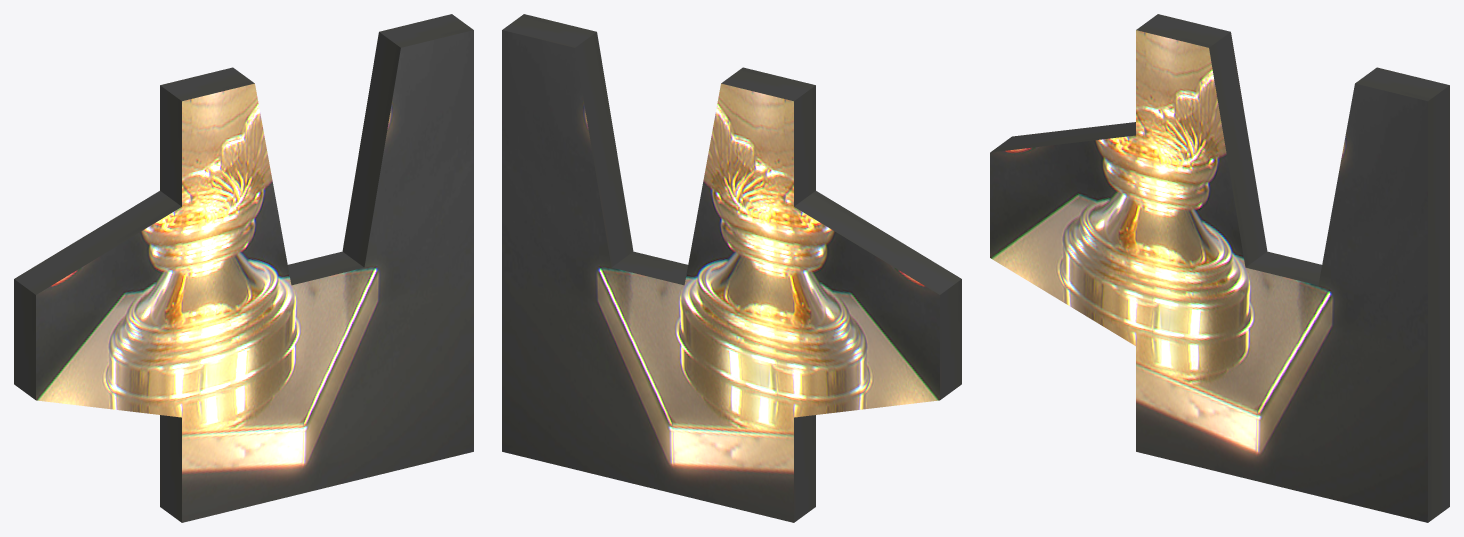
The picture shows the model from 3 angles, left to right: view 1: azimuth 30°, elevation 25°; view 2: azimuth 150°, elevation 25°; view 3: azimuth 330°, elevation 25°; orthographic projection.
Parts seen in each view (by area): view 1: PuzzlePiece; view 2: PuzzlePiece; view 3: PuzzlePiece.
Part boxes in pixels (x1,y1,x2,y2): PuzzlePiece: [14, 14, 473, 522]; PuzzlePiece: [502, 14, 961, 522]; PuzzlePiece: [990, 14, 1449, 522].
Size of the model in its own units: 1.47 by 1.35 by 0.1279.
1 material, 1 textured.
